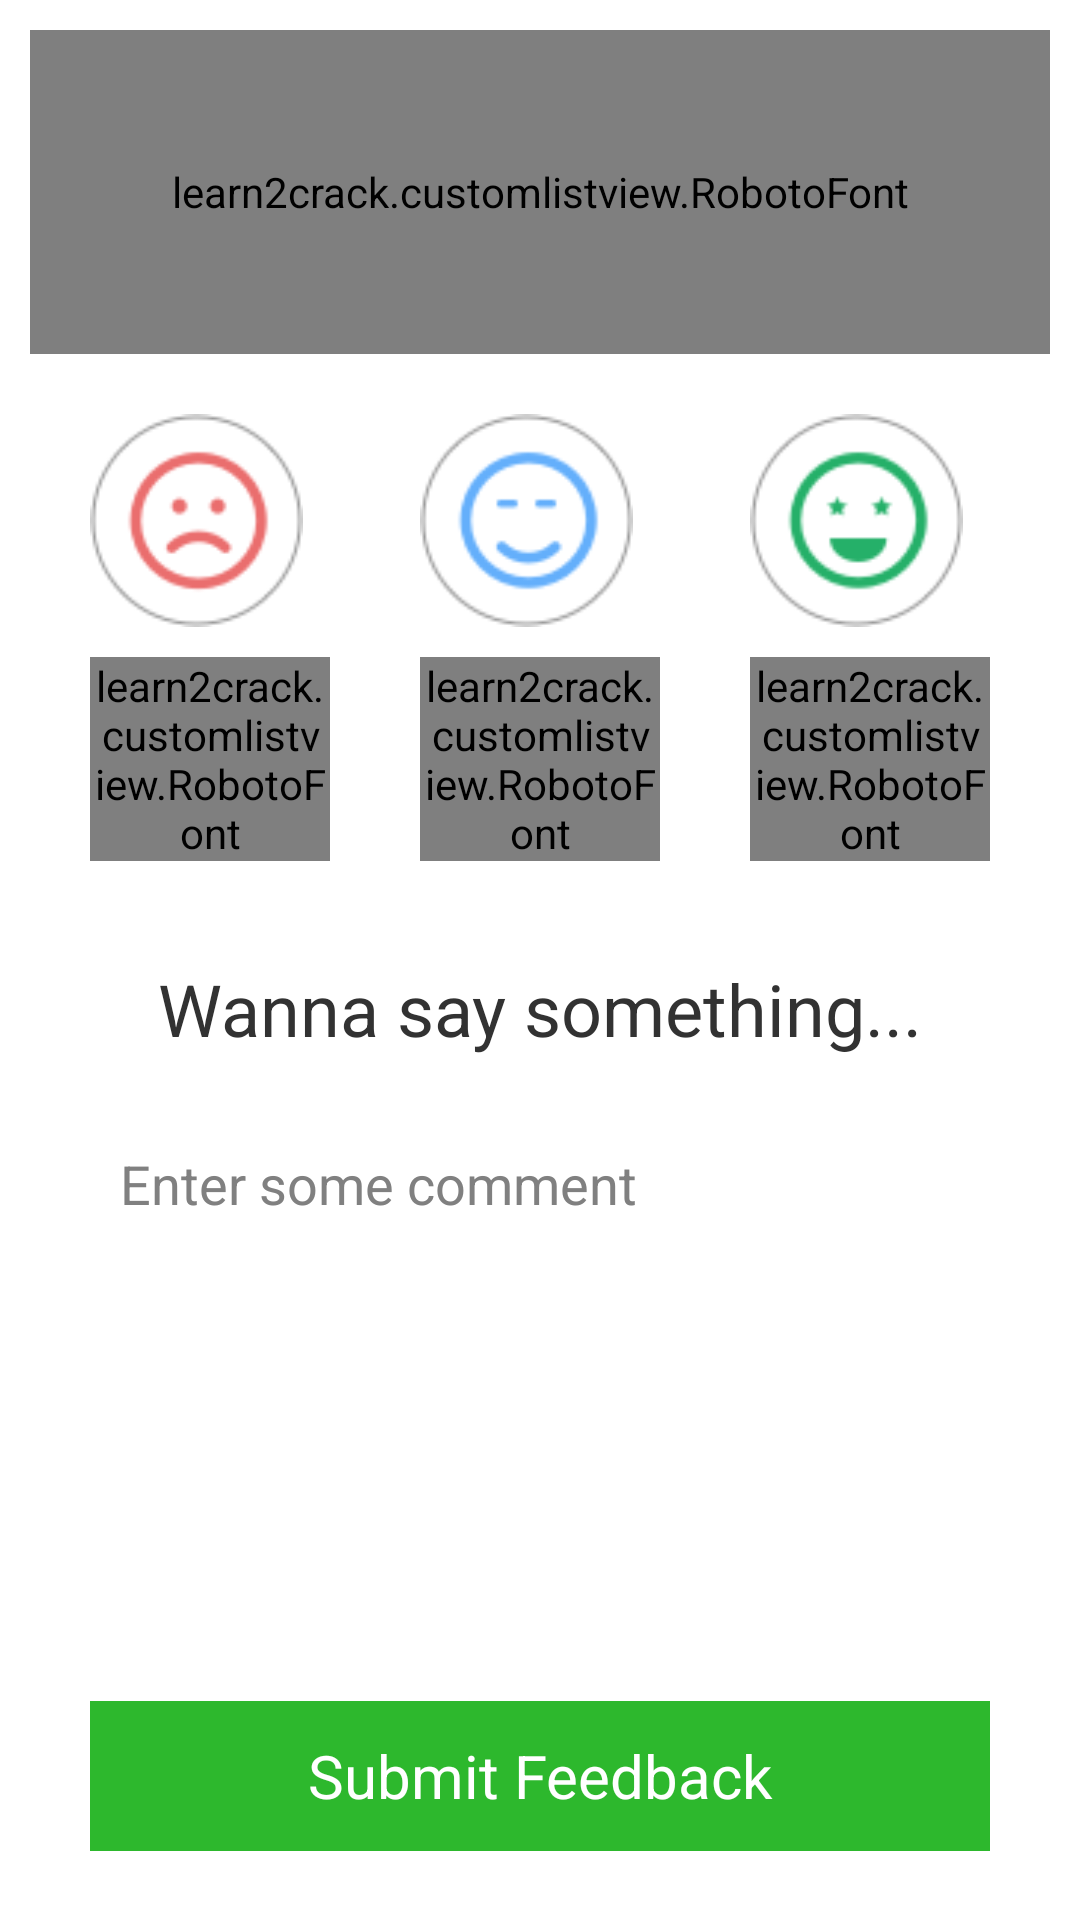

Named icons in this screenshot (1080*1920) and their bounding boxes, (x1=x1, y1=y1, x2=x2, y2=y2):
bluesmileyokay: (x1=420, y1=414, x2=633, y2=627)
greensmileyawesome: (x1=750, y1=414, x2=963, y2=627)
redsmileysad: (x1=90, y1=414, x2=303, y2=627)
